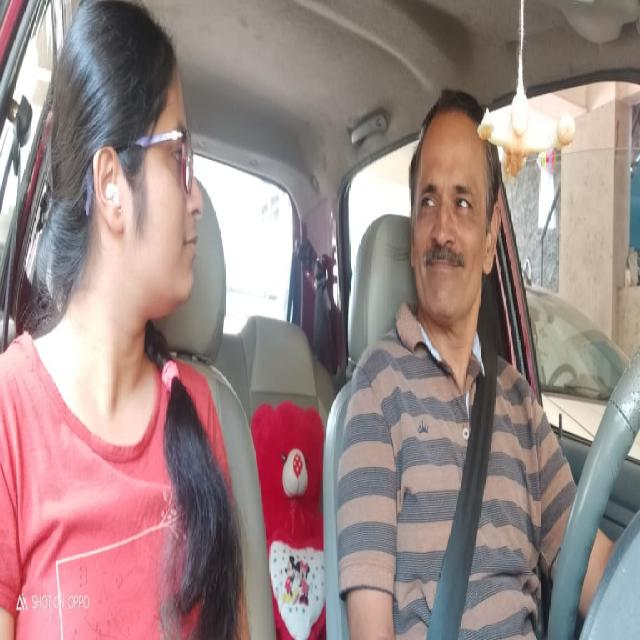LeftRight: (411, 98, 496, 324)
person: (59, 19, 206, 323)
